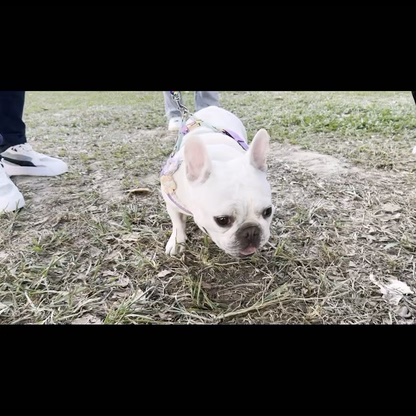bulldog: (156, 103, 277, 260)
